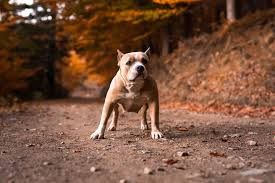Perro Pitbull: (100, 37, 176, 144)
